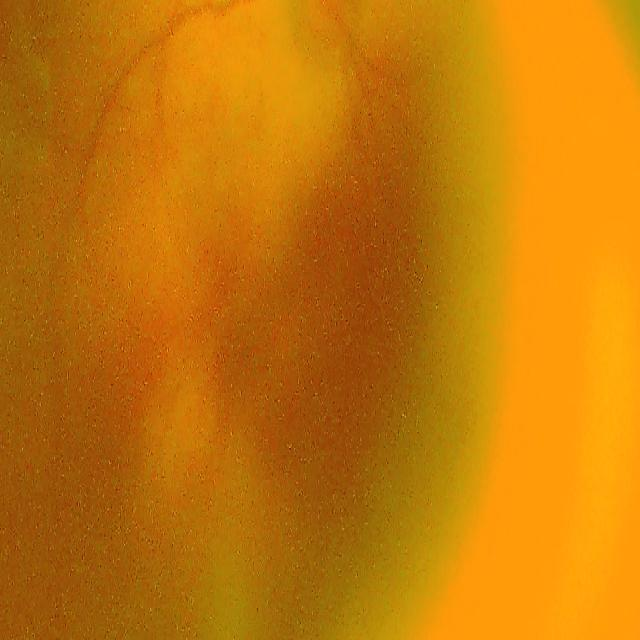optic-nerve: (276, 0, 381, 92)
